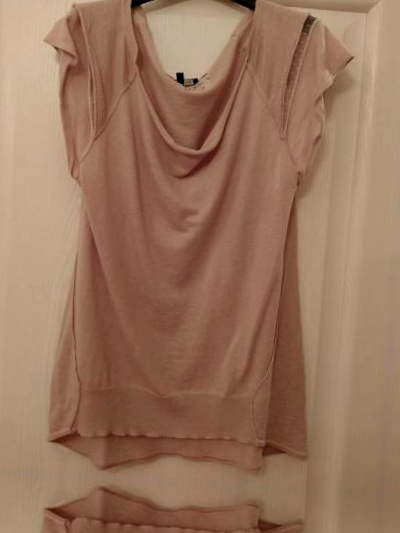Dress: (3, 0, 352, 475), (0, 490, 321, 533)
